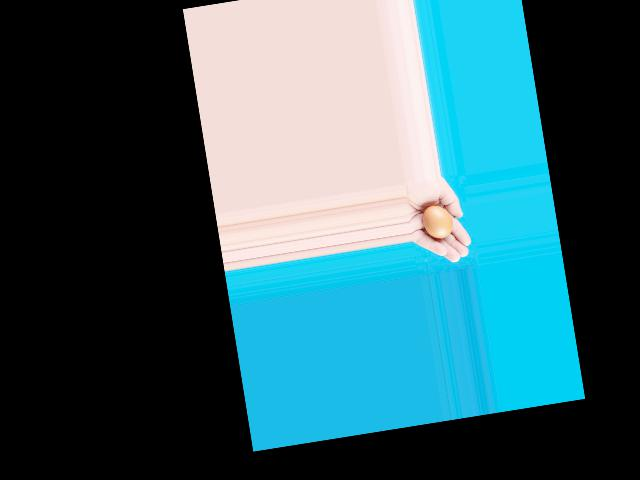egg: (421, 203, 454, 241)
